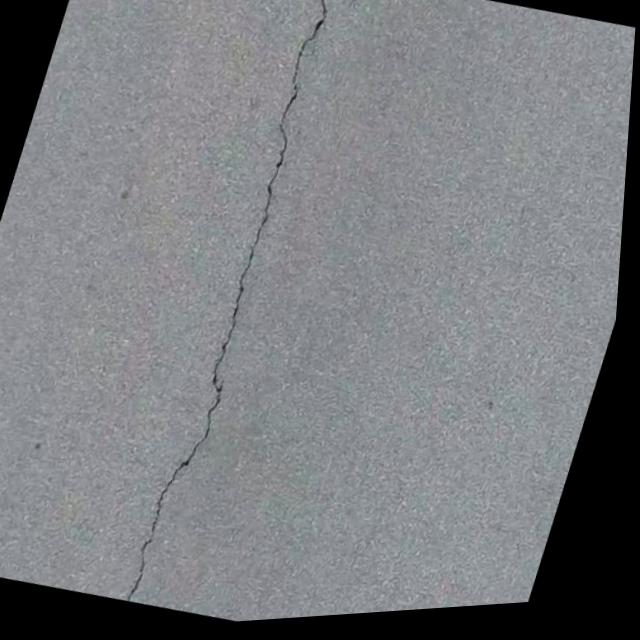Crack: (97, 0, 373, 617)
